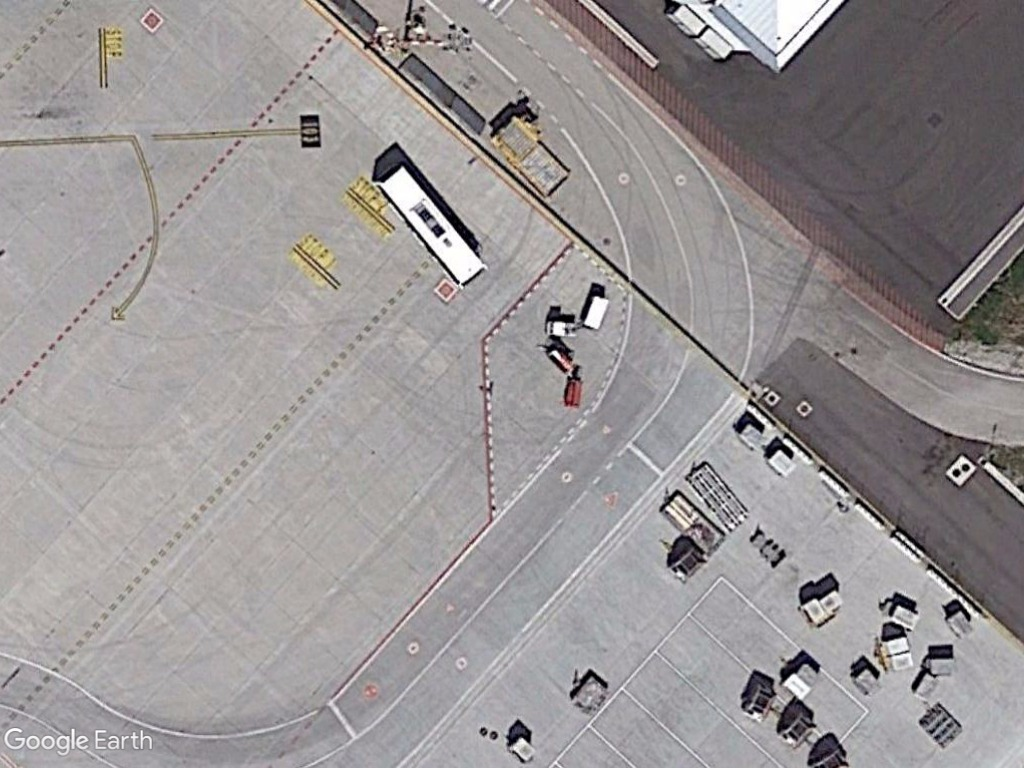bus: (368, 160, 489, 295)
